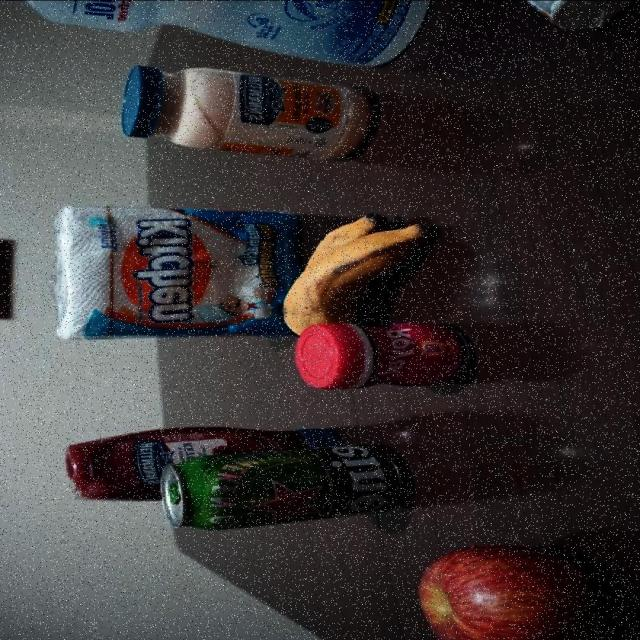AlcoholBottle: (24, 0, 421, 65)
Apple: (415, 540, 603, 640)
Banana: (279, 215, 431, 320)
BeerCan: (168, 454, 396, 524)
Ketchup: (57, 425, 156, 503)
Mayonnaise: (120, 66, 376, 160)
Napkin: (46, 205, 276, 341)
Yeast: (297, 322, 475, 390)
